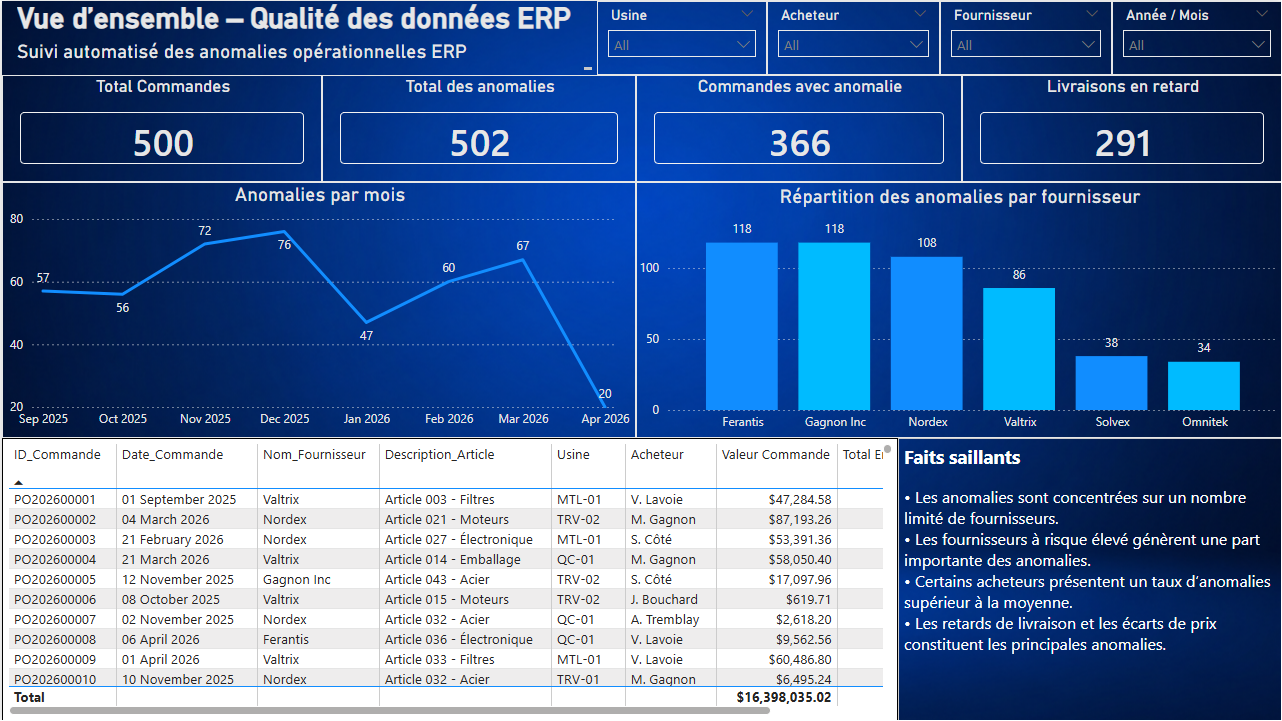

What the dashboard file says about the page in this screenshot:
{"tool":"powerbi","page":{"name":"Vue d’ensemble - Qualité des données ERP","canvas":[1280,720],"ordinal":0},"visuals":[{"type":"textbox","title":"Vue d’ensemble – Qualité des données ERP","box":[9.7,0,585.7,41.3],"z":0},{"type":"textbox","title":"Suivi automatisé des anomalies opérationnelles ERP","box":[9.7,38.6,585.7,35.1],"z":1000},{"type":"cardVisual","title":"Total Commandes","fields":{"Data":["Commandes_achat.Total Commandes"]},"box":[0,73.8,426,107.5],"z":2000},{"type":"cardVisual","title":"Commandes avec anomalie","fields":{"Data":["Commandes_achat.Total anomalies"]},"box":[426.2,73.8,426.2,107.5],"z":3000},{"type":"cardVisual","title":"Livraisons en retard","fields":{"Data":["Commandes_achat.Livraisons en retard"]},"box":[852.5,73.8,426,107.5],"z":5000},{"type":"lineChart","title":"Anomalies par mois","fields":{"Category":["Commandes_achat.Date_Commande.Variation.Date Hierarchy.Year","Commandes_achat.Date_Commande.Variation.Date Hierarchy.Month"],"Y":["CountNonNull(Commandes_achat.Statut_Qualite)"]},"box":[0,180.9,634,256.4],"z":6000},{"type":"clusteredColumnChart","title":"Répartition des anomalies par fournisseur","fields":{"Category":["Commandes_achat.Nom_Fournisseur"],"Y":["Sum(Commandes_achat.Total_Erreurs)"]},"box":[634,180.9,646.2,256.4],"z":7000},{"type":"tableEx","fields":{"Values":["Commandes_achat.ID_Commande","Commandes_achat.Date_Commande","Commandes_achat.Nom_Fournisseur","Articles.Description_Article","Commandes_achat.Usine","Commandes_achat.Acheteur","Sum(Commandes_achat.Valeur_Commande)","Sum(Commandes_achat.Total_Erreurs)","Commandes_achat.Statut_Qualite"]},"box":[0,437,896.4,283.5],"z":8000},{"type":"slicer","fields":{"Values":["Commandes_achat.Usine"]},"box":[595.3,0,170.2,73.9],"z":9000},{"type":"slicer","fields":{"Values":["Commandes_achat.Acheteur"]},"box":[765.5,0,172.2,73.9],"z":10000},{"type":"slicer","fields":{"Values":["Commandes_achat.Nom_Fournisseur"]},"box":[937.6,0,172.2,73.9],"z":11000},{"type":"slicer","fields":{"Values":["Commandes_achat.Date_Commande.Variation.Date Hierarchy.Year","Commandes_achat.Date_Commande.Variation.Date Hierarchy.Month"]},"box":[1109.8,0,170.2,73.9],"z":12000},{"type":"textbox","box":[896.4,437,383.6,283.5],"z":13000}]}

Visuals, with their boxes in screenshot pixels (x1, y1, x2, y2), scaled from the page's 1280x720 canvas onto the 1282x721 screenshot:
"Vue d’ensemble – Qualité des données ERP" textbox: Rect(10, 0, 596, 41)
"Suivi automatisé des anomalies opérationnelles ERP" textbox: Rect(10, 39, 596, 74)
"Total Commandes" cardVisual: Rect(0, 74, 427, 182)
"Commandes avec anomalie" cardVisual: Rect(427, 74, 854, 182)
"Livraisons en retard" cardVisual: Rect(854, 74, 1280, 182)
"Anomalies par mois" lineChart: Rect(0, 181, 635, 438)
"Répartition des anomalies par fournisseur" clusteredColumnChart: Rect(635, 181, 1281, 438)
tableEx - Commandes_achat.ID_Commande x Commandes_achat.Date_Commande: Rect(0, 438, 898, 720)
slicer - Commandes_achat.Usine: Rect(596, 0, 767, 74)
slicer - Commandes_achat.Acheteur: Rect(767, 0, 939, 74)
slicer - Commandes_achat.Nom_Fournisseur: Rect(939, 0, 1112, 74)
slicer - Commandes_achat.Date_Commande.Variation.Date Hierarchy.Year x Commandes_achat.Date_Commande.Variation.Date Hierarchy.Month: Rect(1112, 0, 1281, 74)
textbox: Rect(898, 438, 1281, 720)
